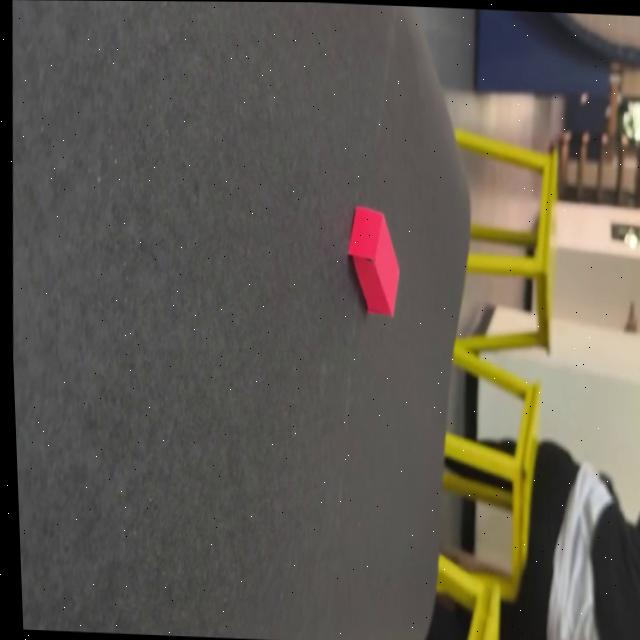red block: (343, 205, 403, 319)
